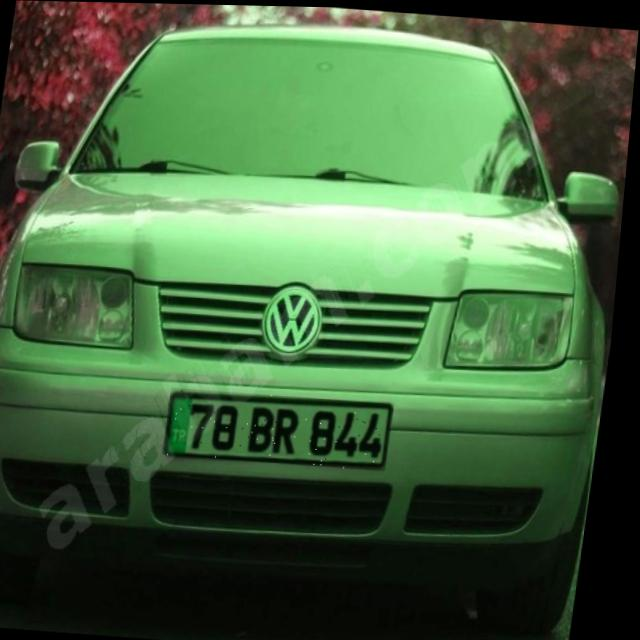license_plate: (170, 387, 402, 469)
